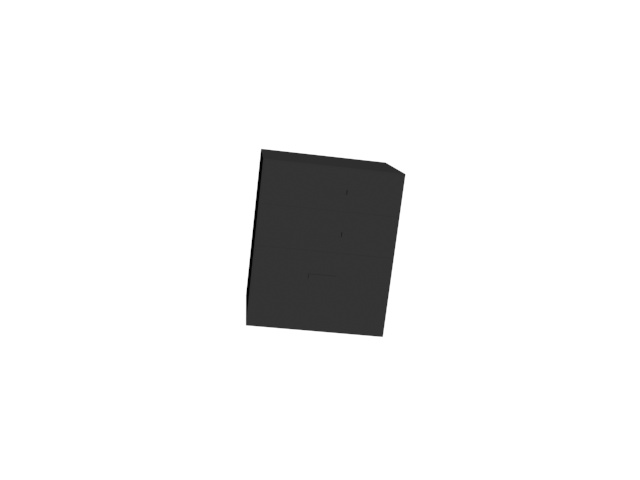file_cabinet: (241, 145, 408, 344)
